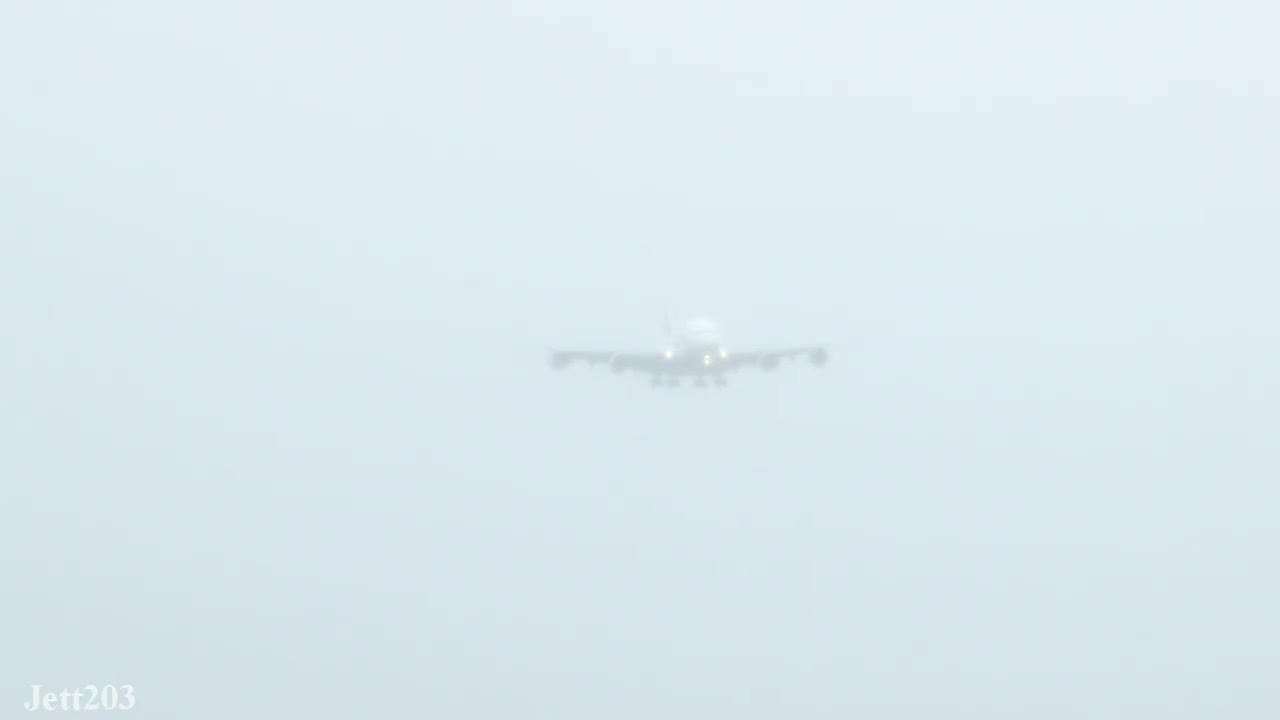aeroplane: (544, 305, 832, 390)
